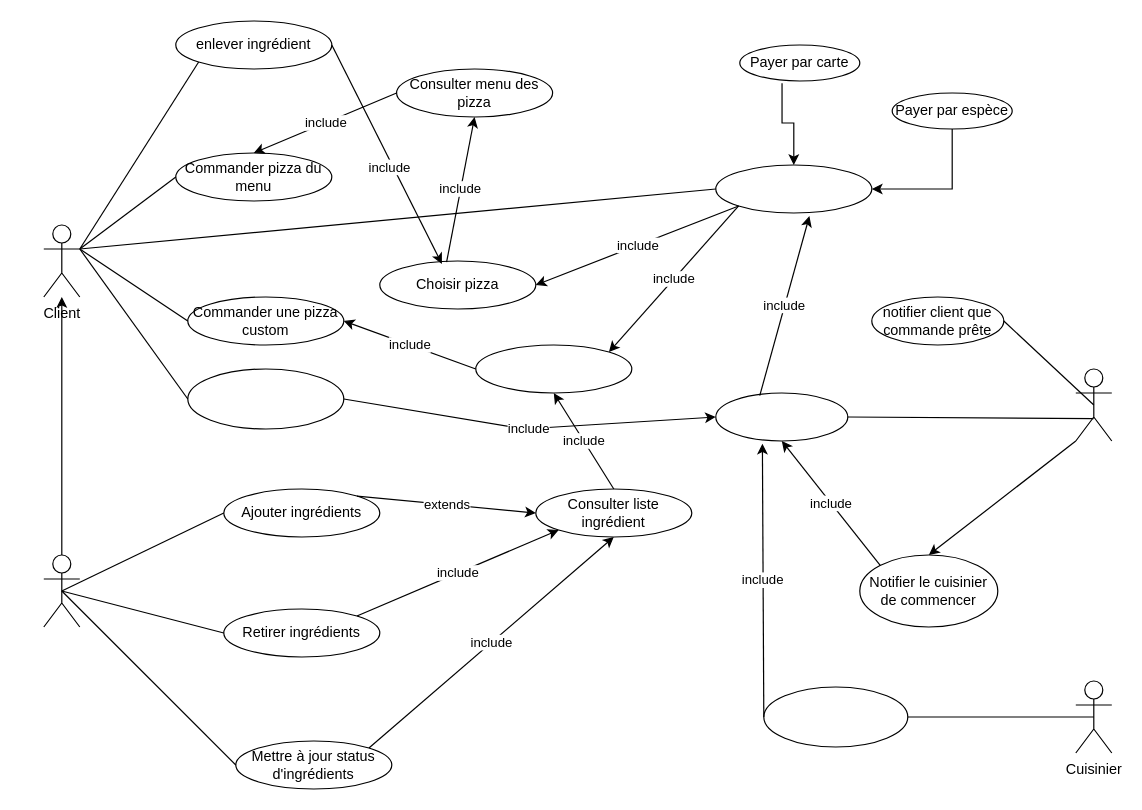
Some shapes in this 1142 by 810 pixel diagram are drawn without their labels. The shapes that lost their labels are listed below. From the top down, each one's box as (x1, y1, x2, y2) in pixels, then its label:
(715, 164, 872, 213): Payer
(475, 344, 632, 393): choisir ingrédients de pizza
(187, 368, 344, 429): Consulter avancement de commande
(715, 392, 848, 441): Créer commande
(1075, 368, 1112, 441): Système
(43, 554, 80, 627): Gestionnaire
(763, 686, 908, 747): Changer status de commande
